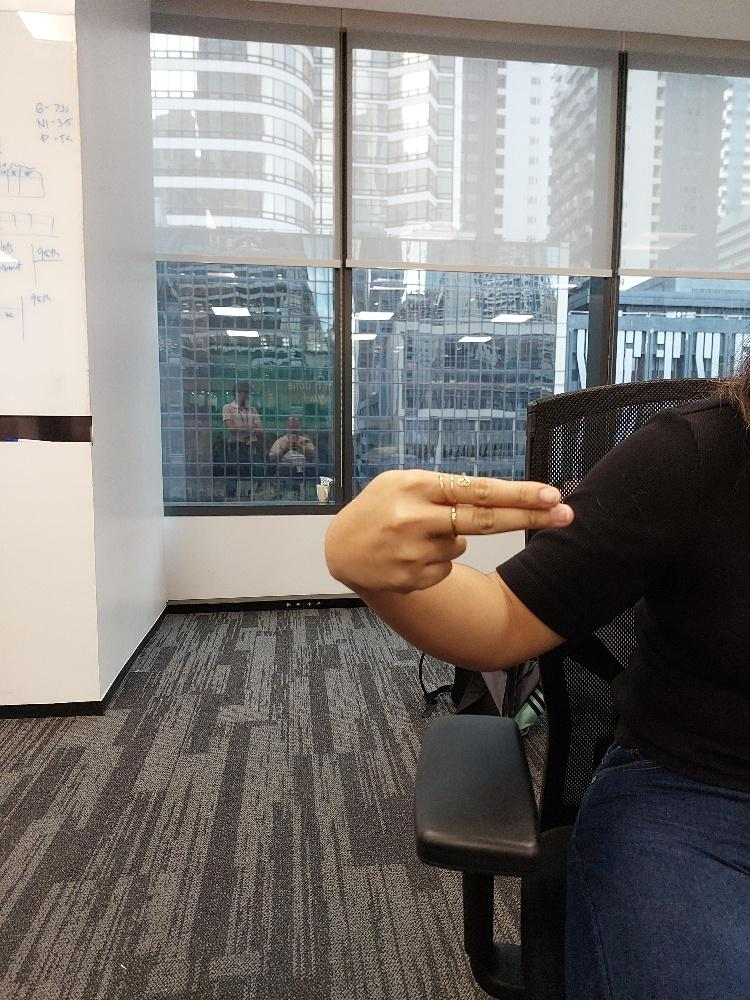h: (321, 465, 576, 596)
